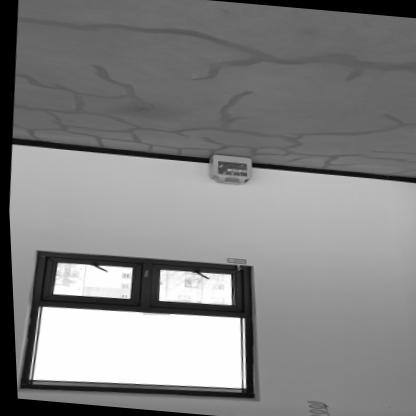DDL: (206, 154, 251, 187)
